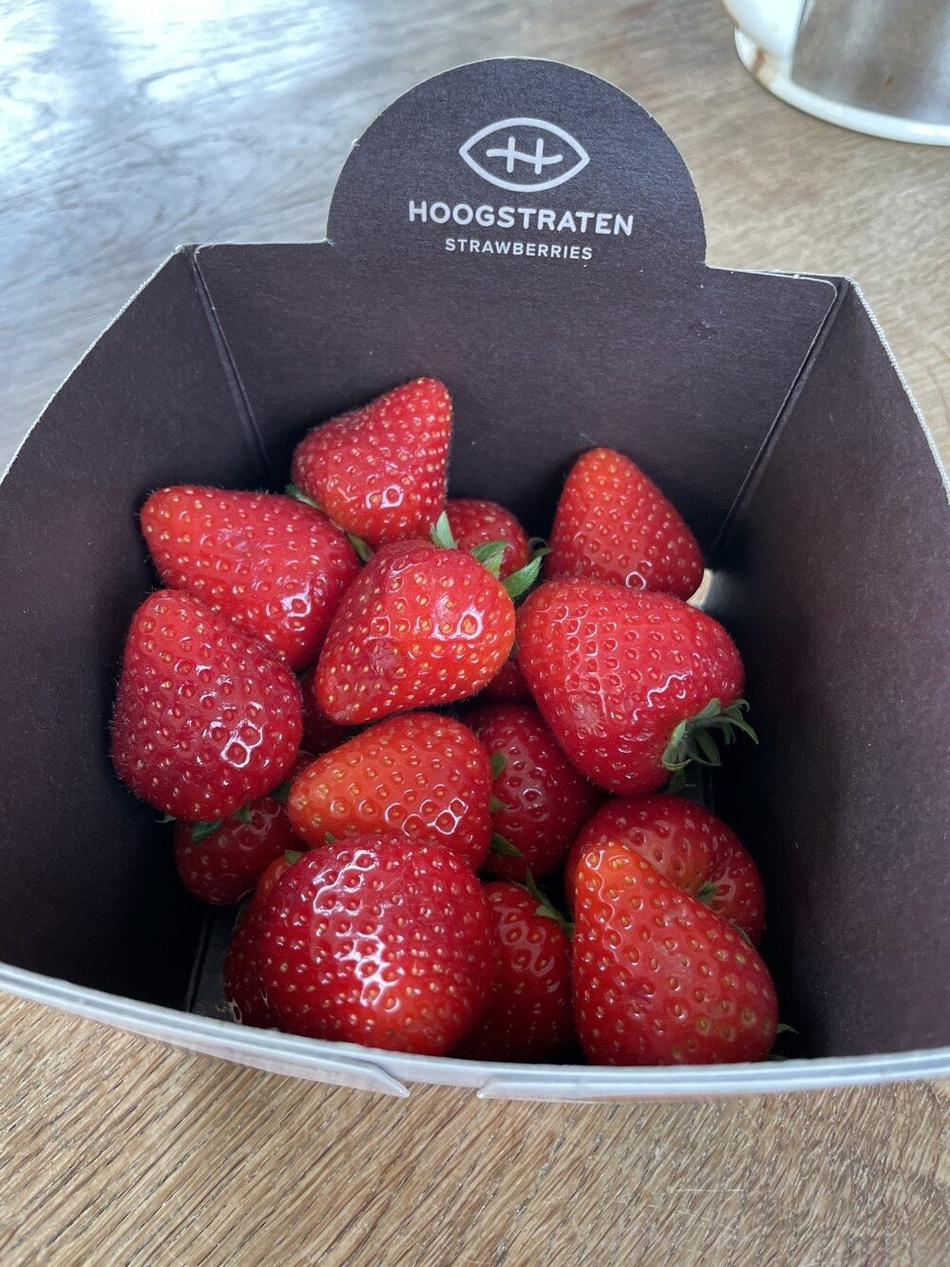Aardbeien: (47, 63, 902, 1204)
